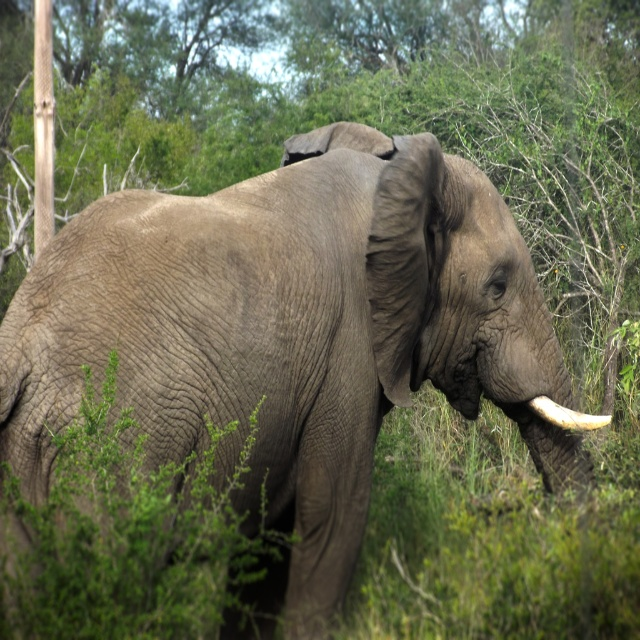Elephant: (0, 121, 613, 640)
